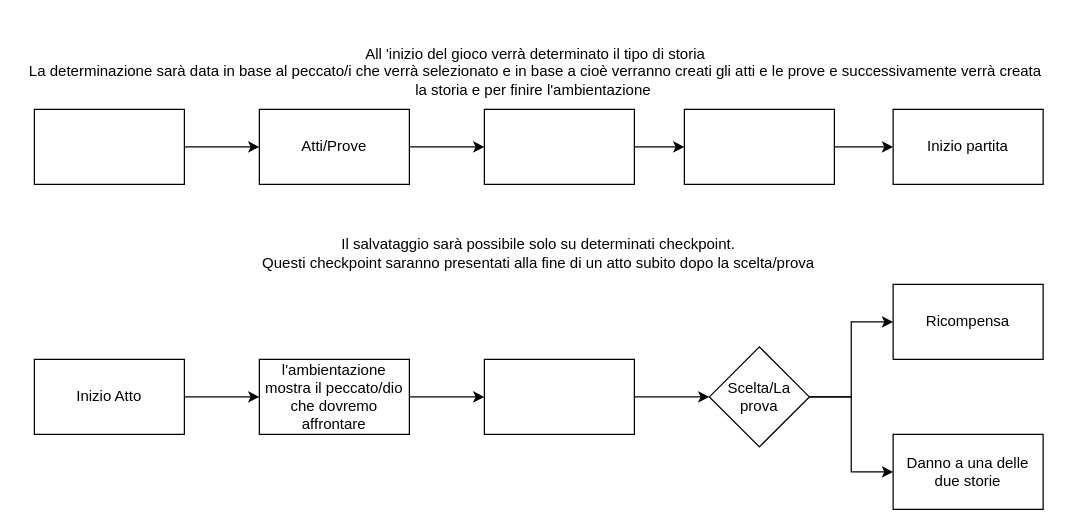
Image size: 1076x531. Some labels were removed from this diagram. The shapes that lost their labels are listed below. From the top down, each one's box as (x1, y1, x2, y2) in pixels, then its label:
(33, 108, 184, 184): Determinazione Virtù/Peccato
(483, 108, 634, 184): Storia
(683, 108, 834, 184): Ambientazione
(483, 358, 634, 434): crescita personale
